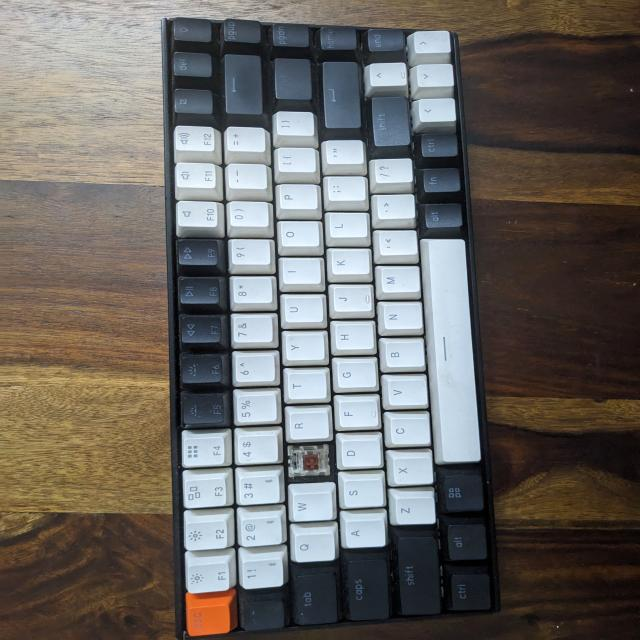C: (288, 445, 334, 482)
